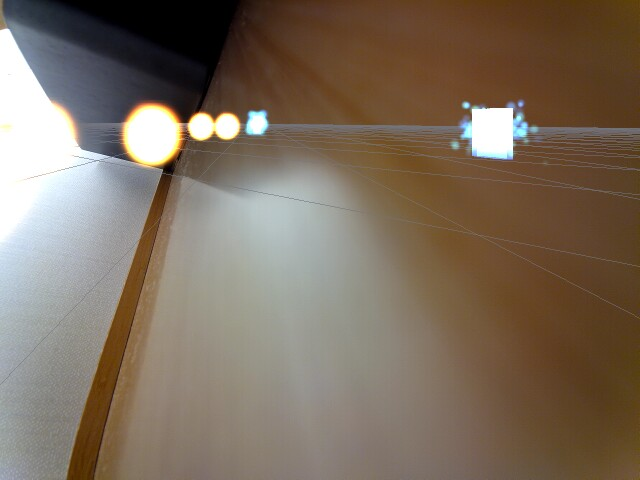firebig: (0, 72, 32, 269)
